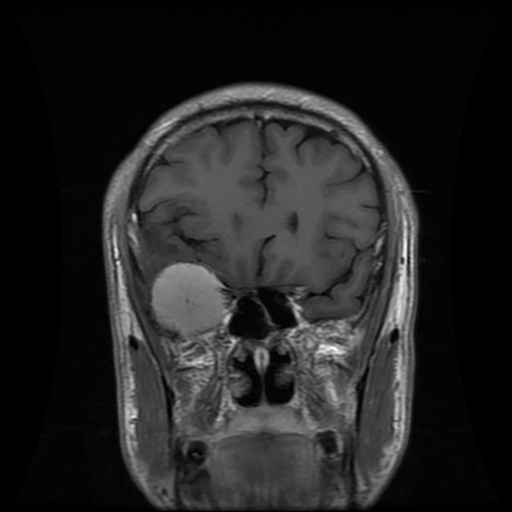meningioma: (151, 262, 223, 336)
